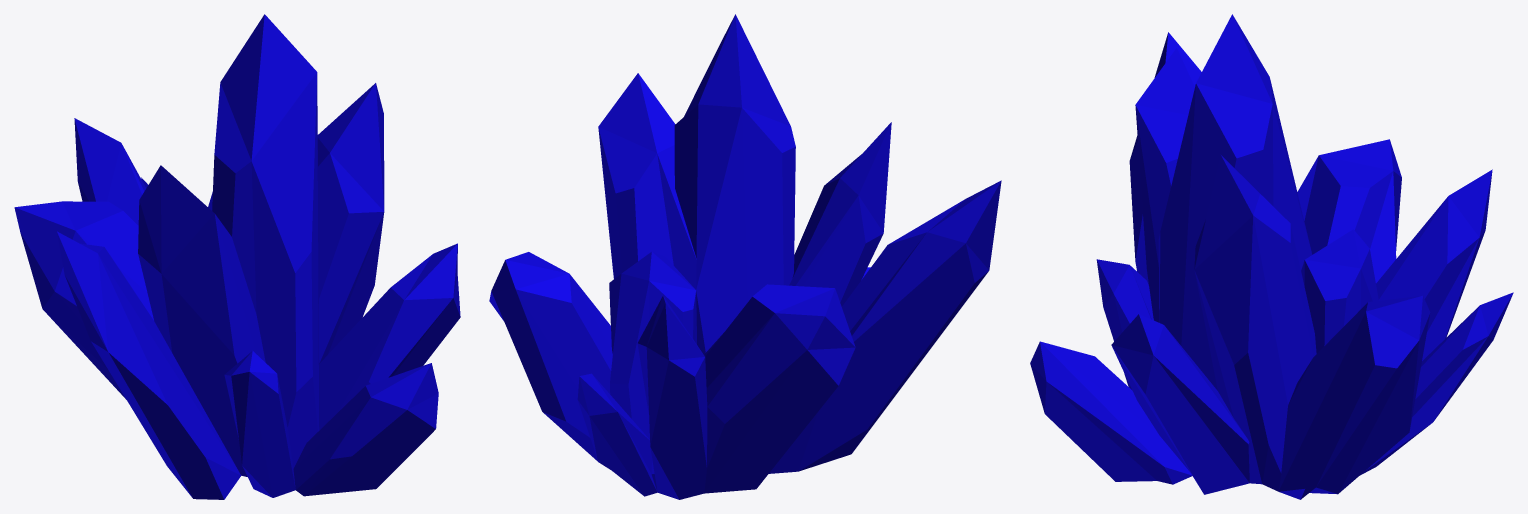
File: lib_bluemal.fbx
3 renders of one model, left to right at view 1: azimuth 30°, elevation 25°; view 2: azimuth 150°, elevation 25°; view 3: azimuth 270°, elevation 25°, orthographic. The views are drawn at different scales.
Parts seen in each view (by area): view 1: Cube.001; view 2: Cube.001; view 3: Cube.001.
Part boxes in pixels (x1,y1,x2,y2): Cube.001: (14,14,460,499); Cube.001: (489,14,1001,499); Cube.001: (1030,14,1513,499).
Bounding box in the file's own units: 279 × 290 × 287.
